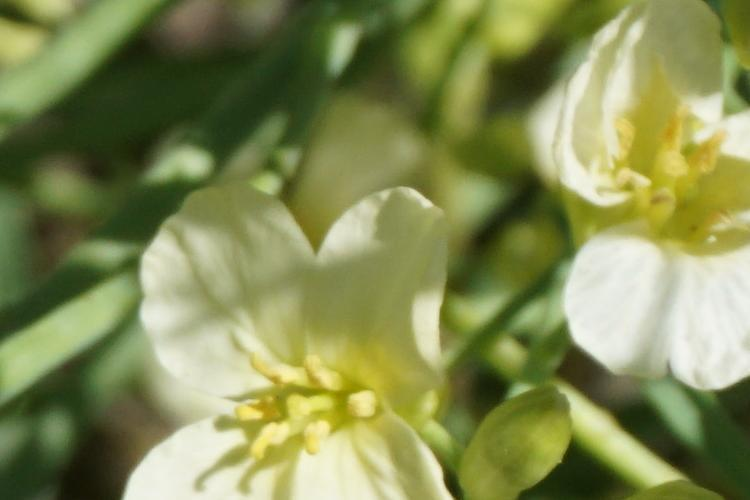bud: (440, 365, 585, 495)
white: (128, 188, 473, 500), (548, 25, 750, 388)
